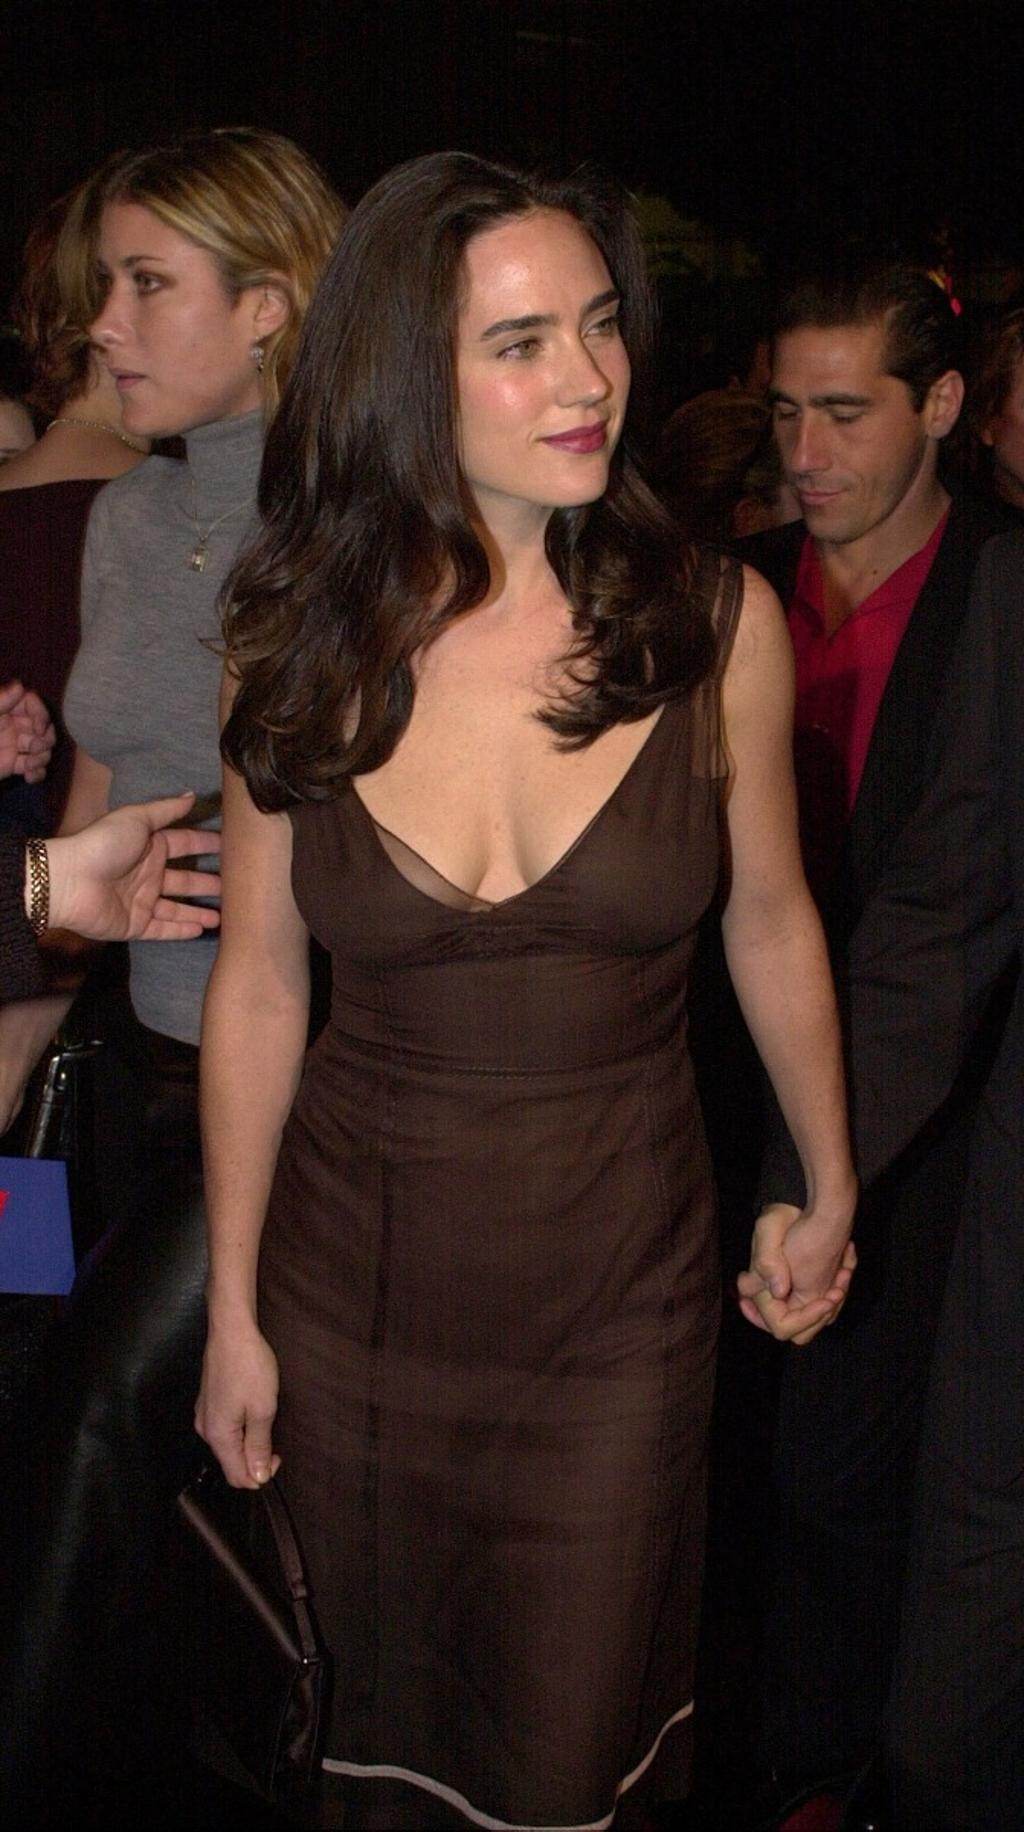face: (426, 201, 630, 509), (86, 186, 240, 429), (773, 319, 923, 545)
